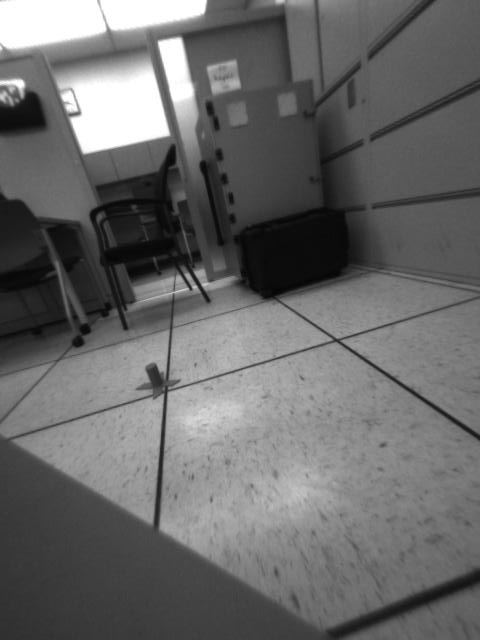X: (133, 362, 181, 400)
